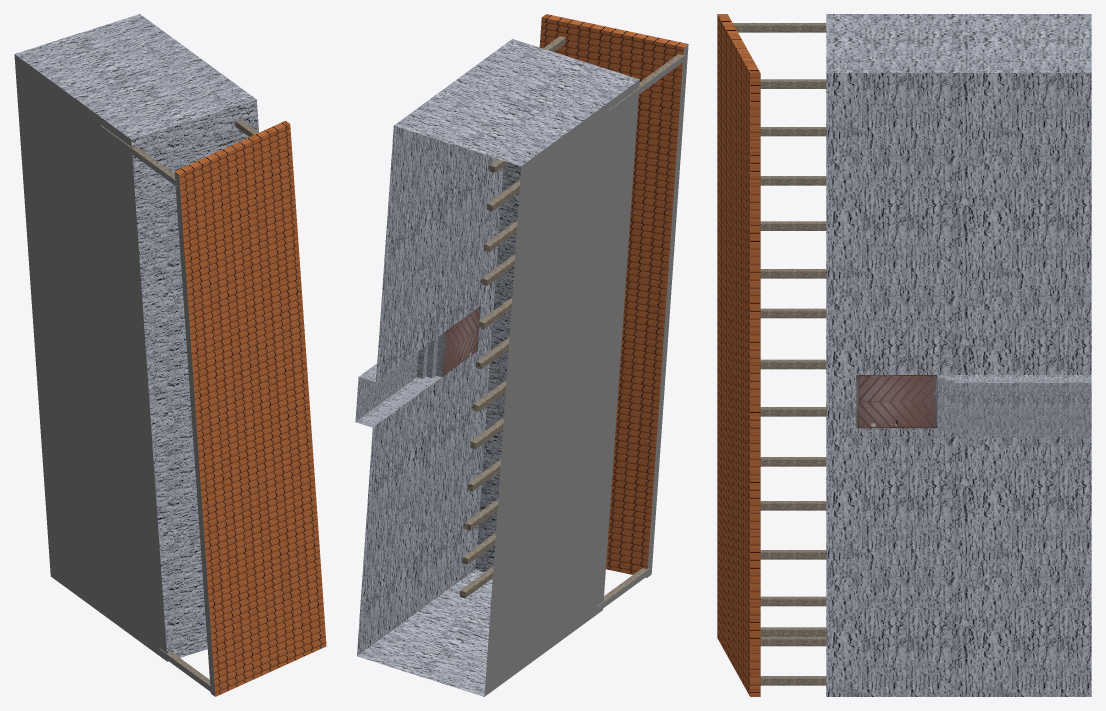
Rendered from Uus_29_2.obj.
3 renders of one model, left to right at view 1: azimuth 30°, elevation 25°; view 2: azimuth 150°, elevation 25°; view 3: azimuth 270°, elevation 25°, orthographic. The views are drawn at different scales.
Parts seen in each view (by area): view 1: uus29_2, xxx; view 2: uus29_2, xxx; view 3: uus29_2.
Part boxes in pixels (x1,y1,x2,y2): uus29_2: (15,14,326,696); xxx: (14,54,215,696); uus29_2: (355,14,687,696); xxx: (484,44,688,696); uus29_2: (717,14,1091,696).
Size of the model in its own units: 4.3 by 13.57 by 7.49.
